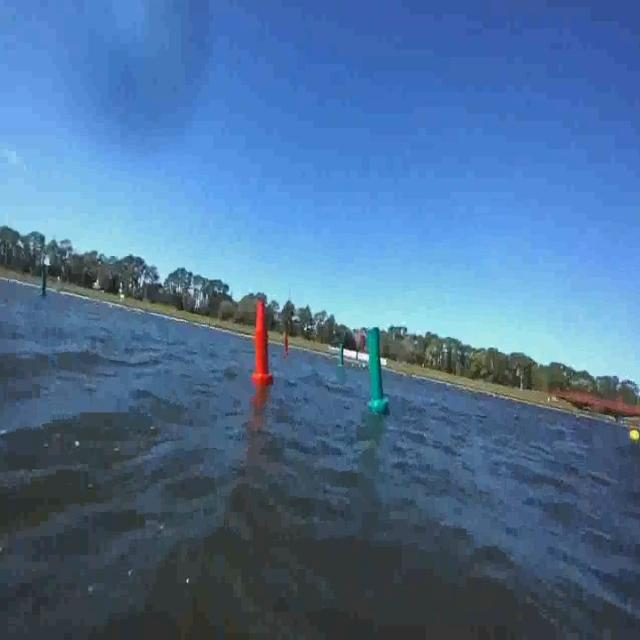green-column-buoy: (365, 327, 388, 413), (39, 264, 49, 298), (339, 343, 346, 368)
red-column-buoy: (253, 300, 275, 386), (283, 332, 291, 358)
yellow-buoy: (630, 428, 640, 441)
